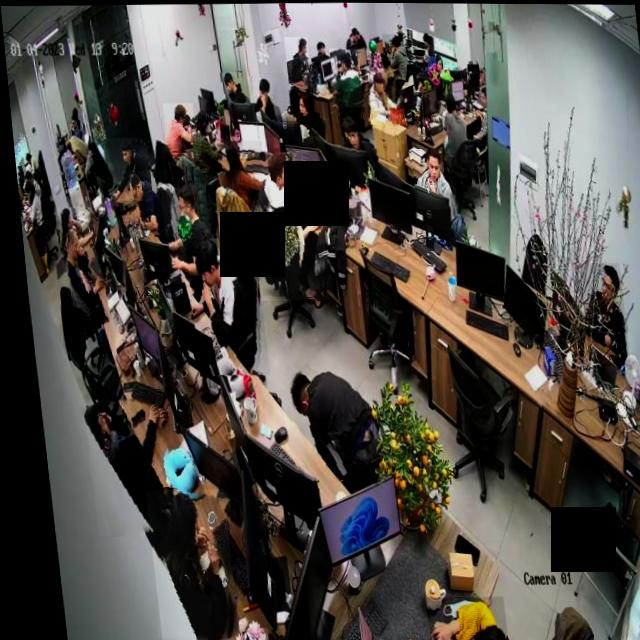person: (135, 488, 227, 640), (75, 397, 172, 536), (241, 151, 329, 301), (180, 236, 262, 376), (278, 368, 376, 483), (156, 182, 211, 284), (573, 261, 623, 365), (53, 225, 103, 324), (412, 595, 495, 640), (215, 139, 263, 214), (118, 170, 171, 237), (100, 137, 150, 201), (407, 148, 454, 209), (436, 91, 471, 171), (365, 51, 403, 124), (160, 102, 196, 166), (362, 67, 403, 123), (327, 47, 362, 107), (331, 112, 373, 156), (245, 76, 283, 122), (52, 207, 92, 250), (381, 33, 412, 85), (288, 88, 320, 136), (283, 36, 310, 85), (219, 71, 242, 102), (415, 29, 434, 65)
